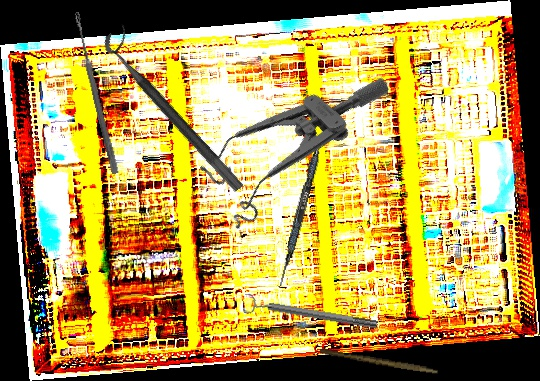Fixation Ring: (99, 22, 257, 194), (242, 291, 379, 337)
Scalpel Handle: (319, 347, 439, 375)
Spatula Surgical: (277, 110, 331, 290)
Speculum: (185, 27, 393, 244)
Surgical Spoon: (72, 11, 120, 175)
